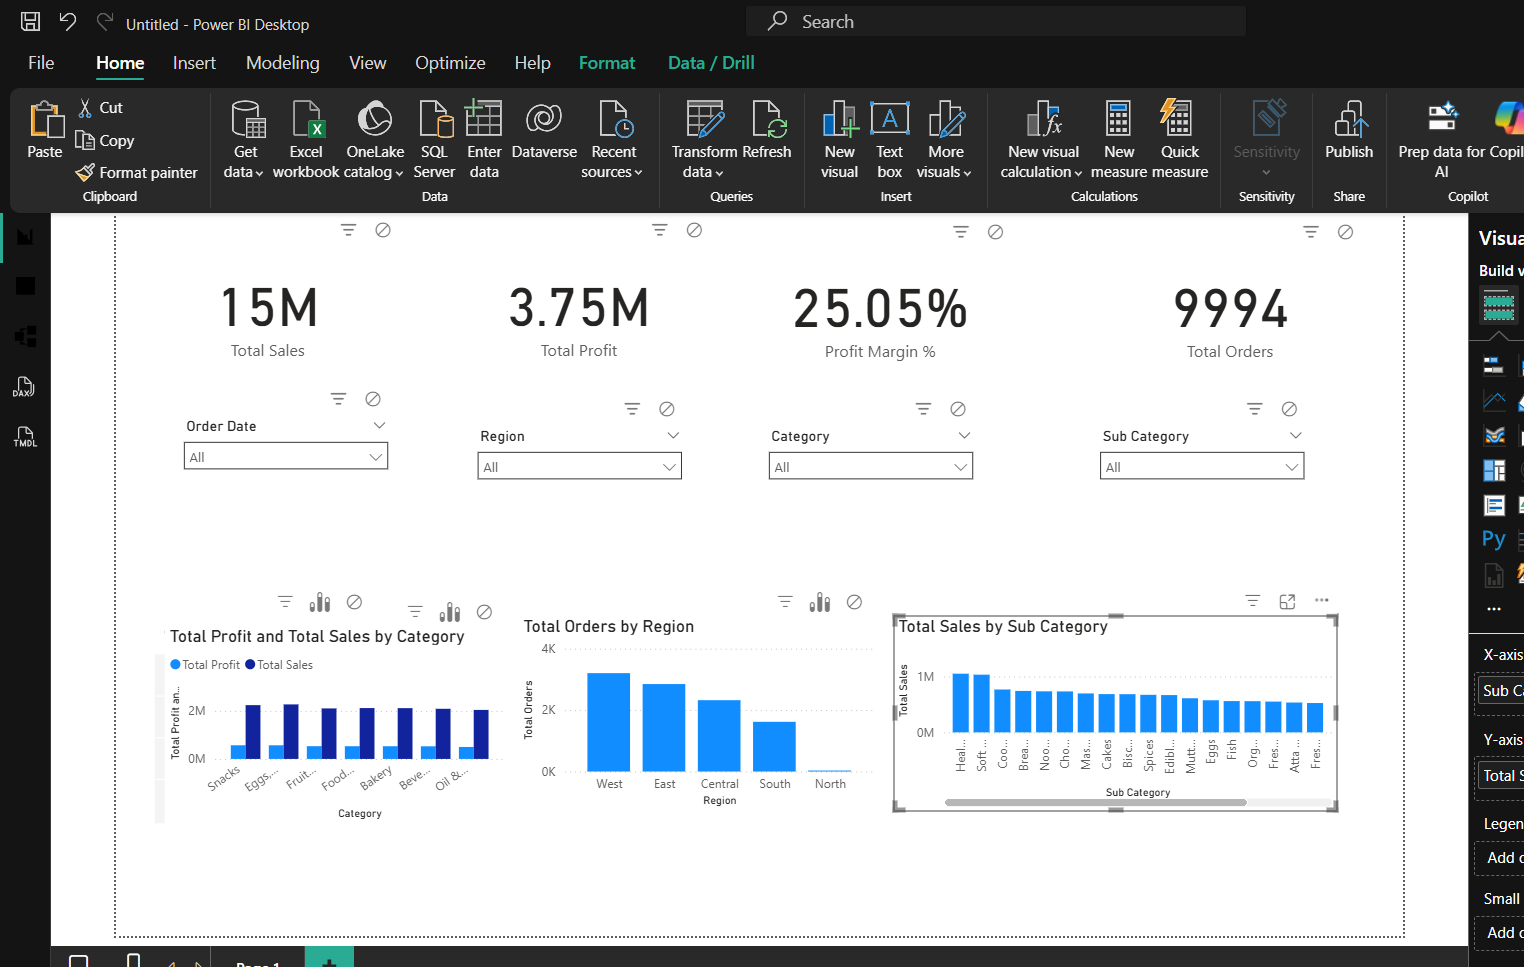

The dashboard page shown, as its layout file describes it:
{"tool":"powerbi","page":{"name":"Page 1","canvas":[1280,720],"ordinal":0},"visuals":[{"type":"card","fields":{"Values":["Supermart Grocery Sales - Retail Analytics Dataset.Total Sales"]},"box":[11,31.6,279.9,133.1],"z":0},{"type":"card","fields":{"Values":["Supermart Grocery Sales - Retail Analytics Dataset.Total Profit"]},"box":[321.1,31.6,279.9,133.1],"z":1000},{"type":"card","fields":{"Values":["Supermart Grocery Sales - Retail Analytics Dataset.Profit Margin %"]},"box":[620.2,32.9,279.9,133.1],"z":2000},{"type":"card","fields":{"Values":["Supermart Grocery Sales - Retail Analytics Dataset.Total Orders"]},"box":[968.8,32.9,279.9,133.1],"z":3000},{"type":"slicer","fields":{"Values":["Supermart Grocery Sales - Retail Analytics Dataset.Order Date"]},"box":[57.2,199,223.9,69.7],"z":4000},{"type":"slicer","fields":{"Values":["Supermart Grocery Sales - Retail Analytics Dataset.Region"]},"box":[349.6,209,223.9,72.1],"z":5000},{"type":"slicer","fields":{"Values":["Supermart Grocery Sales - Retail Analytics Dataset.Category"]},"box":[639.4,209,223.9,72.1],"z":6000},{"type":"slicer","fields":{"Values":["Supermart Grocery Sales - Retail Analytics Dataset.Sub Category"]},"box":[969,209,223.9,72.1],"z":7000},{"type":"clusteredColumnChart","box":[38.6,400.6,223.9,207.7],"z":8000},{"type":"clusteredColumnChart","fields":{"Category":["Supermart Grocery Sales - Retail Analytics Dataset.Category"],"Y":["Supermart Grocery Sales - Retail Analytics Dataset.Total Profit","Supermart Grocery Sales - Retail Analytics Dataset.Total Sales"]},"box":[48.5,410.5,343.3,197.8],"z":9000},{"type":"clusteredColumnChart","fields":{"Category":["Supermart Grocery Sales - Retail Analytics Dataset.Region"],"Y":["Supermart Grocery Sales - Retail Analytics Dataset.Total Orders"]},"box":[400.6,400.6,359.5,195.3],"z":9001},{"type":"clusteredColumnChart","fields":{"Category":["Supermart Grocery Sales - Retail Analytics Dataset.Sub Category"],"Y":["Supermart Grocery Sales - Retail Analytics Dataset.Total Sales"]},"box":[773.7,400.6,441.6,195.3],"z":9002}]}

Visuals, with their boxes on the page's 1280x720 design canvas (x1, y1, x2, y2). These are canvas units, not pixel positions in the 1524x967 screenshot, which may show the page scaled, cropped or inside an application window:
card - Supermart Grocery Sales - Retail Analytics Dataset.Total Sales: crop(11, 32, 291, 165)
card - Supermart Grocery Sales - Retail Analytics Dataset.Total Profit: crop(321, 32, 601, 165)
card - Supermart Grocery Sales - Retail Analytics Dataset.Profit Margin %: crop(620, 33, 900, 166)
card - Supermart Grocery Sales - Retail Analytics Dataset.Total Orders: crop(969, 33, 1249, 166)
slicer - Supermart Grocery Sales - Retail Analytics Dataset.Order Date: crop(57, 199, 281, 269)
slicer - Supermart Grocery Sales - Retail Analytics Dataset.Region: crop(350, 209, 574, 281)
slicer - Supermart Grocery Sales - Retail Analytics Dataset.Category: crop(639, 209, 863, 281)
slicer - Supermart Grocery Sales - Retail Analytics Dataset.Sub Category: crop(969, 209, 1193, 281)
clusteredColumnChart: crop(39, 401, 262, 608)
clusteredColumnChart - Supermart Grocery Sales - Retail Analytics Dataset.Category x Supermart Grocery Sales - Retail Analytics Dataset.Total Profit: crop(48, 410, 392, 608)
clusteredColumnChart - Supermart Grocery Sales - Retail Analytics Dataset.Region x Supermart Grocery Sales - Retail Analytics Dataset.Total Orders: crop(401, 401, 760, 596)
clusteredColumnChart - Supermart Grocery Sales - Retail Analytics Dataset.Sub Category x Supermart Grocery Sales - Retail Analytics Dataset.Total Sales: crop(774, 401, 1215, 596)
